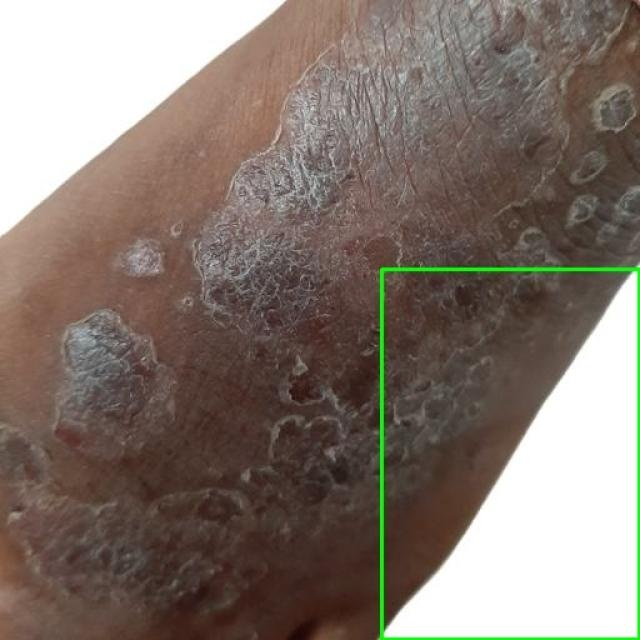Contact Dermatitis: (381, 269, 639, 639)
